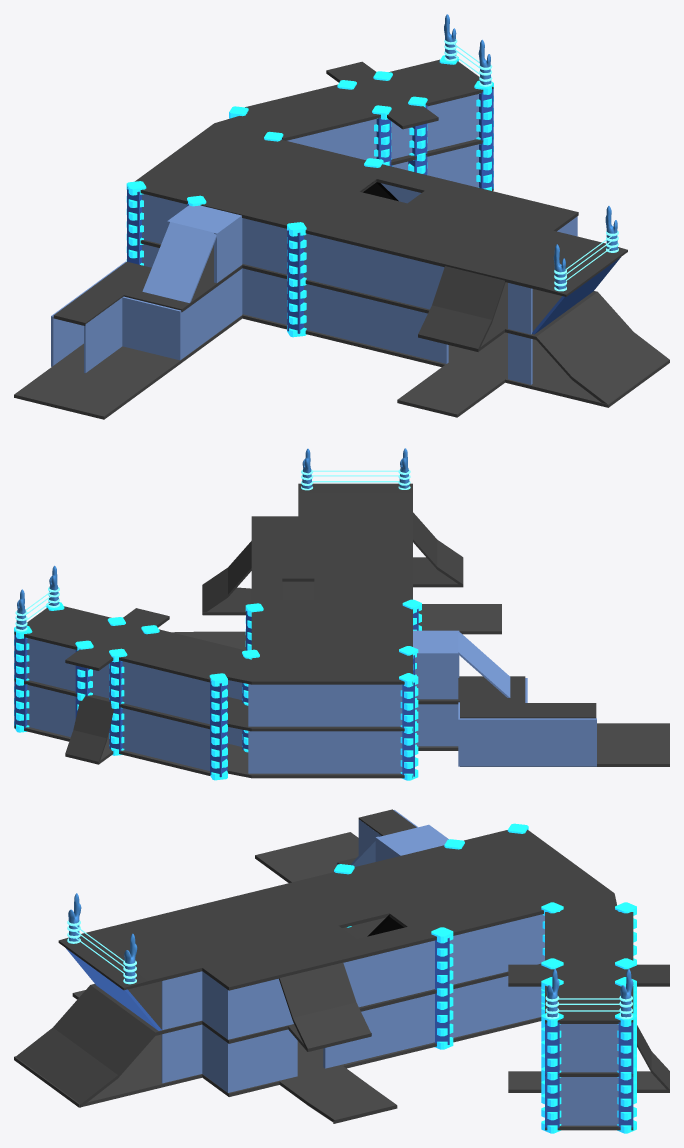
File: research area.fbx
3 renders of one model, top to bottom at view 1: azimuth 30°, elevation 25°; view 2: azimuth 150°, elevation 25°; view 3: azimuth 270°, elevation 25°, orthographic. The views are drawn at different scales.
Parts seen in each view (by area): view 1: Cube.002, Cube.042, Cube, Cube.001, Cube.026, Cube.025, Cube.044, Cylinder.001, Cube.027; view 2: Cube.002, Cube.042, Cube.001, Cube, Cube.026, Cube.025, Cylinder.001, Cube.044; view 3: Cube.002, Cube.042, Cube.001, Cube, Cube.026, Cube.025, Cube.044, Cylinder.001, Cube.027.
Boxes of the visible parts, left/top/right/bottom form: Cube.002: left=127, top=59, right=627, bottom=351; Cube.042: left=51, top=94, right=577, bottom=384; Cube: left=14, top=189, right=669, bottom=419; Cube.001: left=53, top=138, right=669, bottom=404; Cube.026: left=126, top=55, right=493, bottom=337; Cube.025: left=127, top=89, right=493, bottom=333; Cube.044: left=444, top=14, right=617, bottom=289; Cylinder.001: left=444, top=39, right=618, bottom=291; Cube.027: left=532, top=257, right=620, bottom=334; Cube.002: left=14, top=483, right=463, bottom=684; Cube.042: left=27, top=630, right=596, bottom=773; Cube.001: left=14, top=557, right=596, bottom=761; Cube: left=14, top=604, right=669, bottom=778; Cube.026: left=14, top=599, right=421, bottom=780; Cube.025: left=14, top=608, right=418, bottom=777; Cylinder.001: left=15, top=469, right=410, bottom=631; Cube.044: left=16, top=448, right=409, bottom=629; Cube.002: left=58, top=829, right=669, bottom=1051; Cube.042: left=161, top=810, right=618, bottom=1125; Cube.001: left=15, top=809, right=669, bottom=1123; Cube: left=14, top=832, right=669, bottom=1130; Cube.026: left=334, top=823, right=636, bottom=1133; Cube.025: left=435, top=937, right=633, bottom=1128; Cube.044: left=68, top=893, right=633, bottom=1017; Cylinder.001: left=67, top=920, right=632, bottom=1019; Cube.027: left=66, top=948, right=161, bottom=1030.
Bounding box in the file's own units: 9557 × 2400 × 8932.
